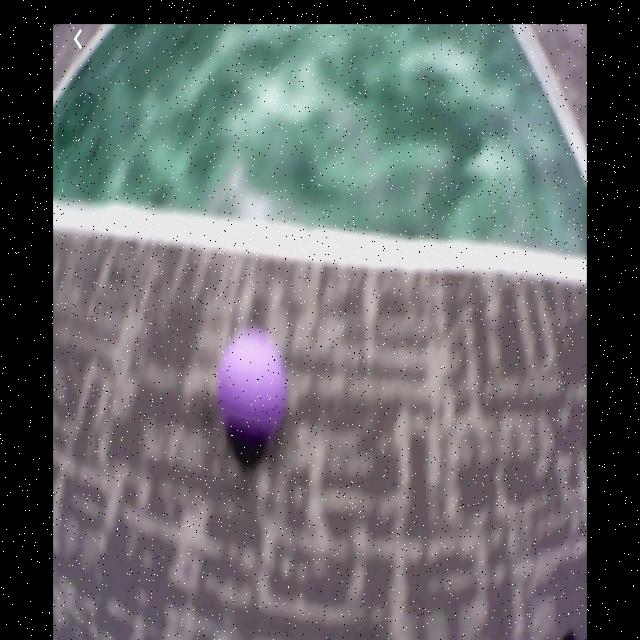ball: (217, 326, 286, 437)
